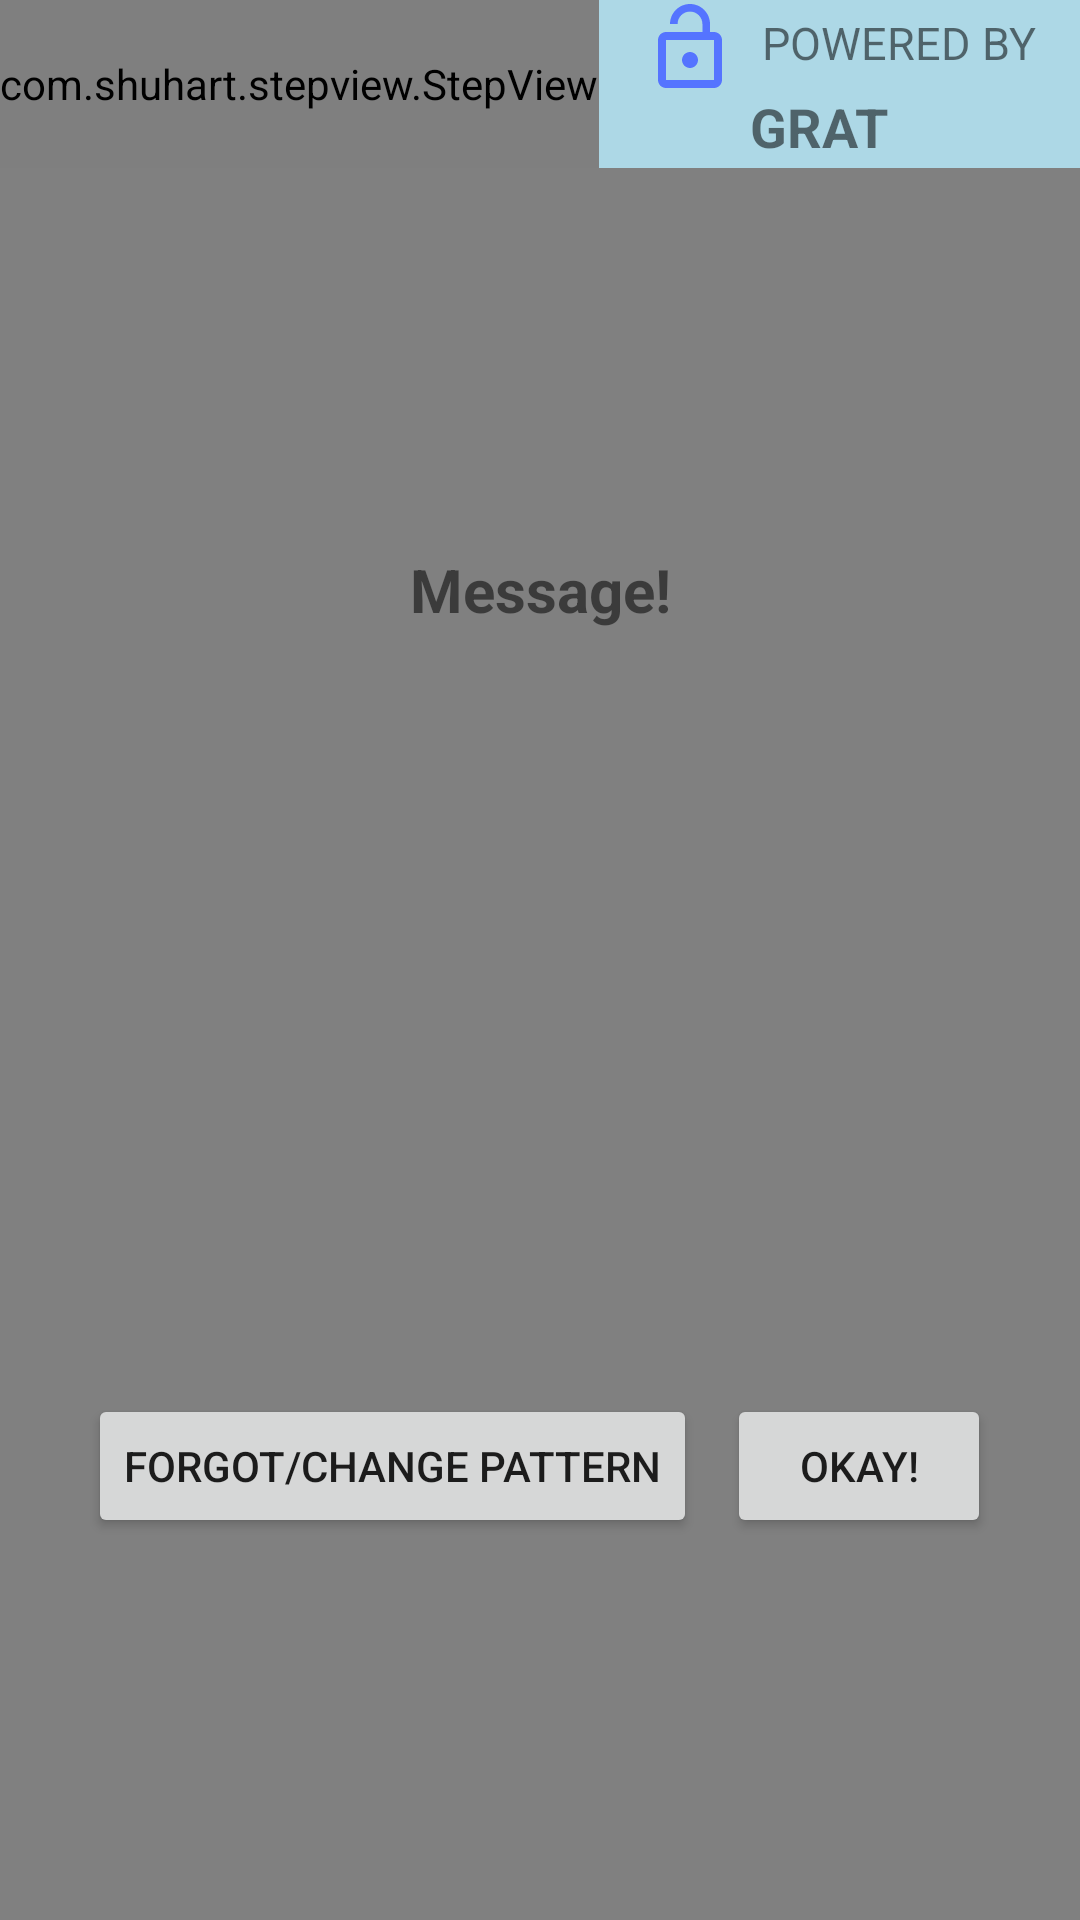

Point at icon controls on the screen. Image size 1080 × 1920, points as (x,y).
lock open: (690,46)
